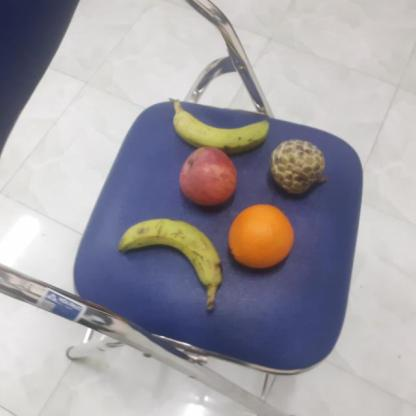annona: (267, 139, 327, 194)
apple: (176, 146, 239, 206)
banana: (116, 216, 224, 286), (171, 108, 269, 153)
orange: (227, 204, 299, 271)
